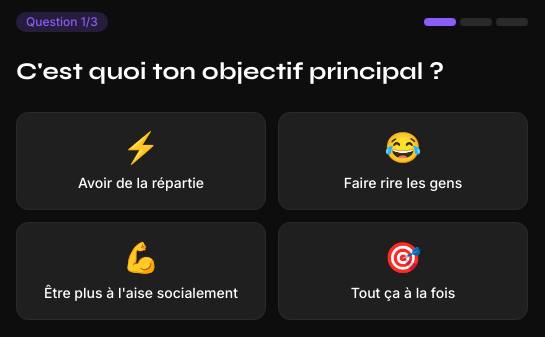
HumorQuiz › advances to question 2 after answering
Click the text "Avoir de la répartie". click: x=141, y=183
box: [78,173,204,193]
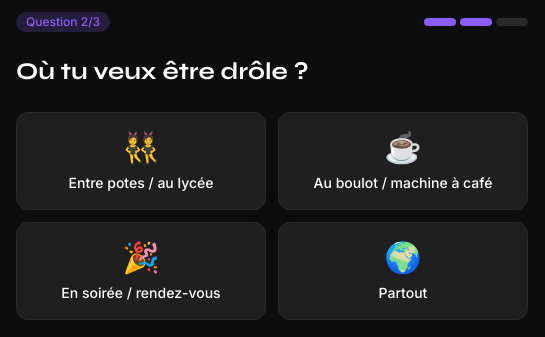
Now the heading "Où tu veux être drôle ?" is shown, box [16,57,309,86]
Now the text "Question 2/3" is shown, box [16,12,110,32]
